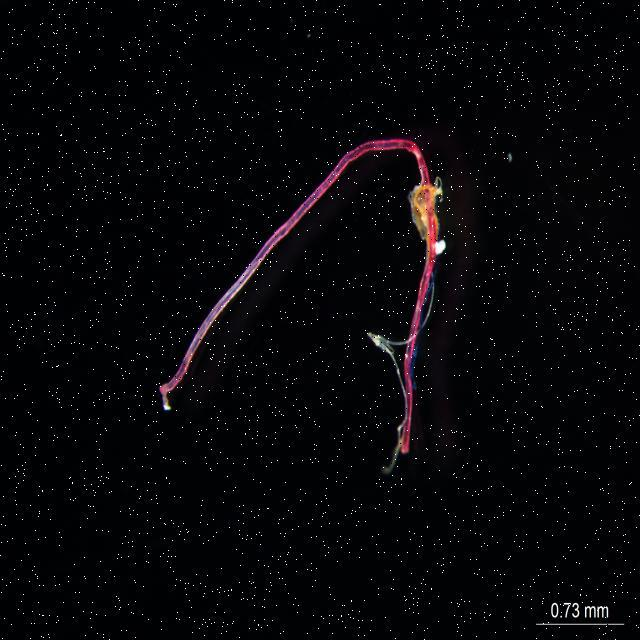Fibre: (154, 134, 452, 462)
